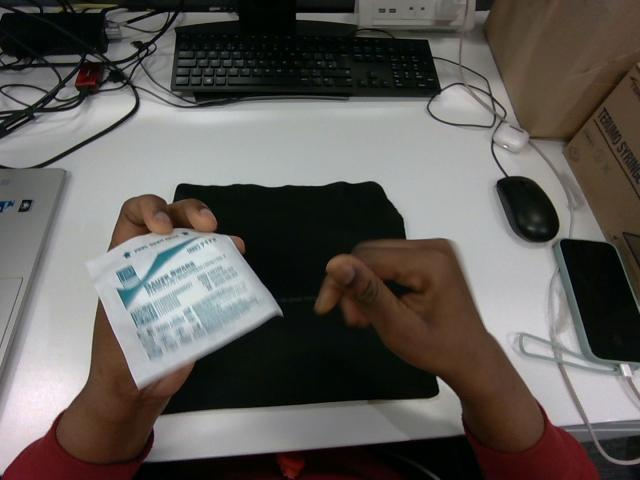gauze: (87, 229, 281, 387)
